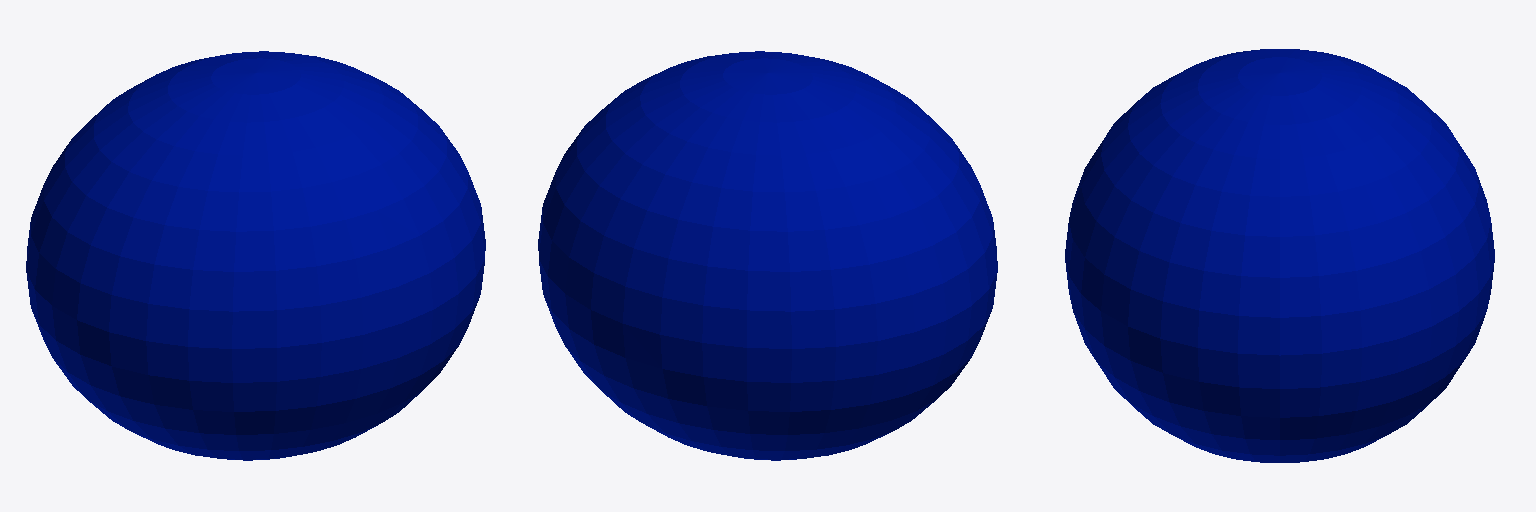
File: moya_rice_b.obj
3 views of the same model, side by side, from view 1: azimuth 30°, elevation 25°; view 2: azimuth 150°, elevation 25°; view 3: azimuth 270°, elevation 25° (orthographic).
Visible parts, largest first — view 1: Sphere_Sphere.005_Sphere_Sphere.007; view 2: Sphere_Sphere.005_Sphere_Sphere.007; view 3: Sphere_Sphere.005_Sphere_Sphere.007.
Part boxes in pixels (bbox=[...]): Sphere_Sphere.005_Sphere_Sphere.007: bbox=[26, 51, 485, 460]; Sphere_Sphere.005_Sphere_Sphere.007: bbox=[538, 51, 997, 460]; Sphere_Sphere.005_Sphere_Sphere.007: bbox=[1065, 49, 1494, 462].
Bounding box in the file's own units: 0.2297 × 0.1969 × 0.21.